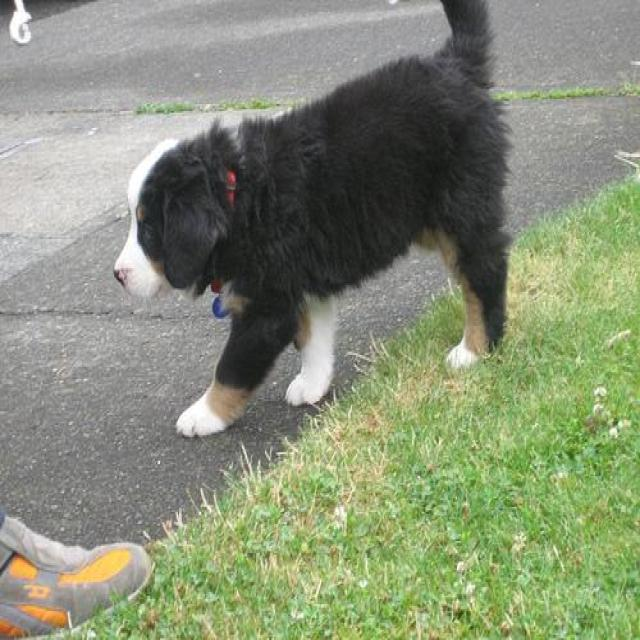relax: (102, 0, 565, 435)
